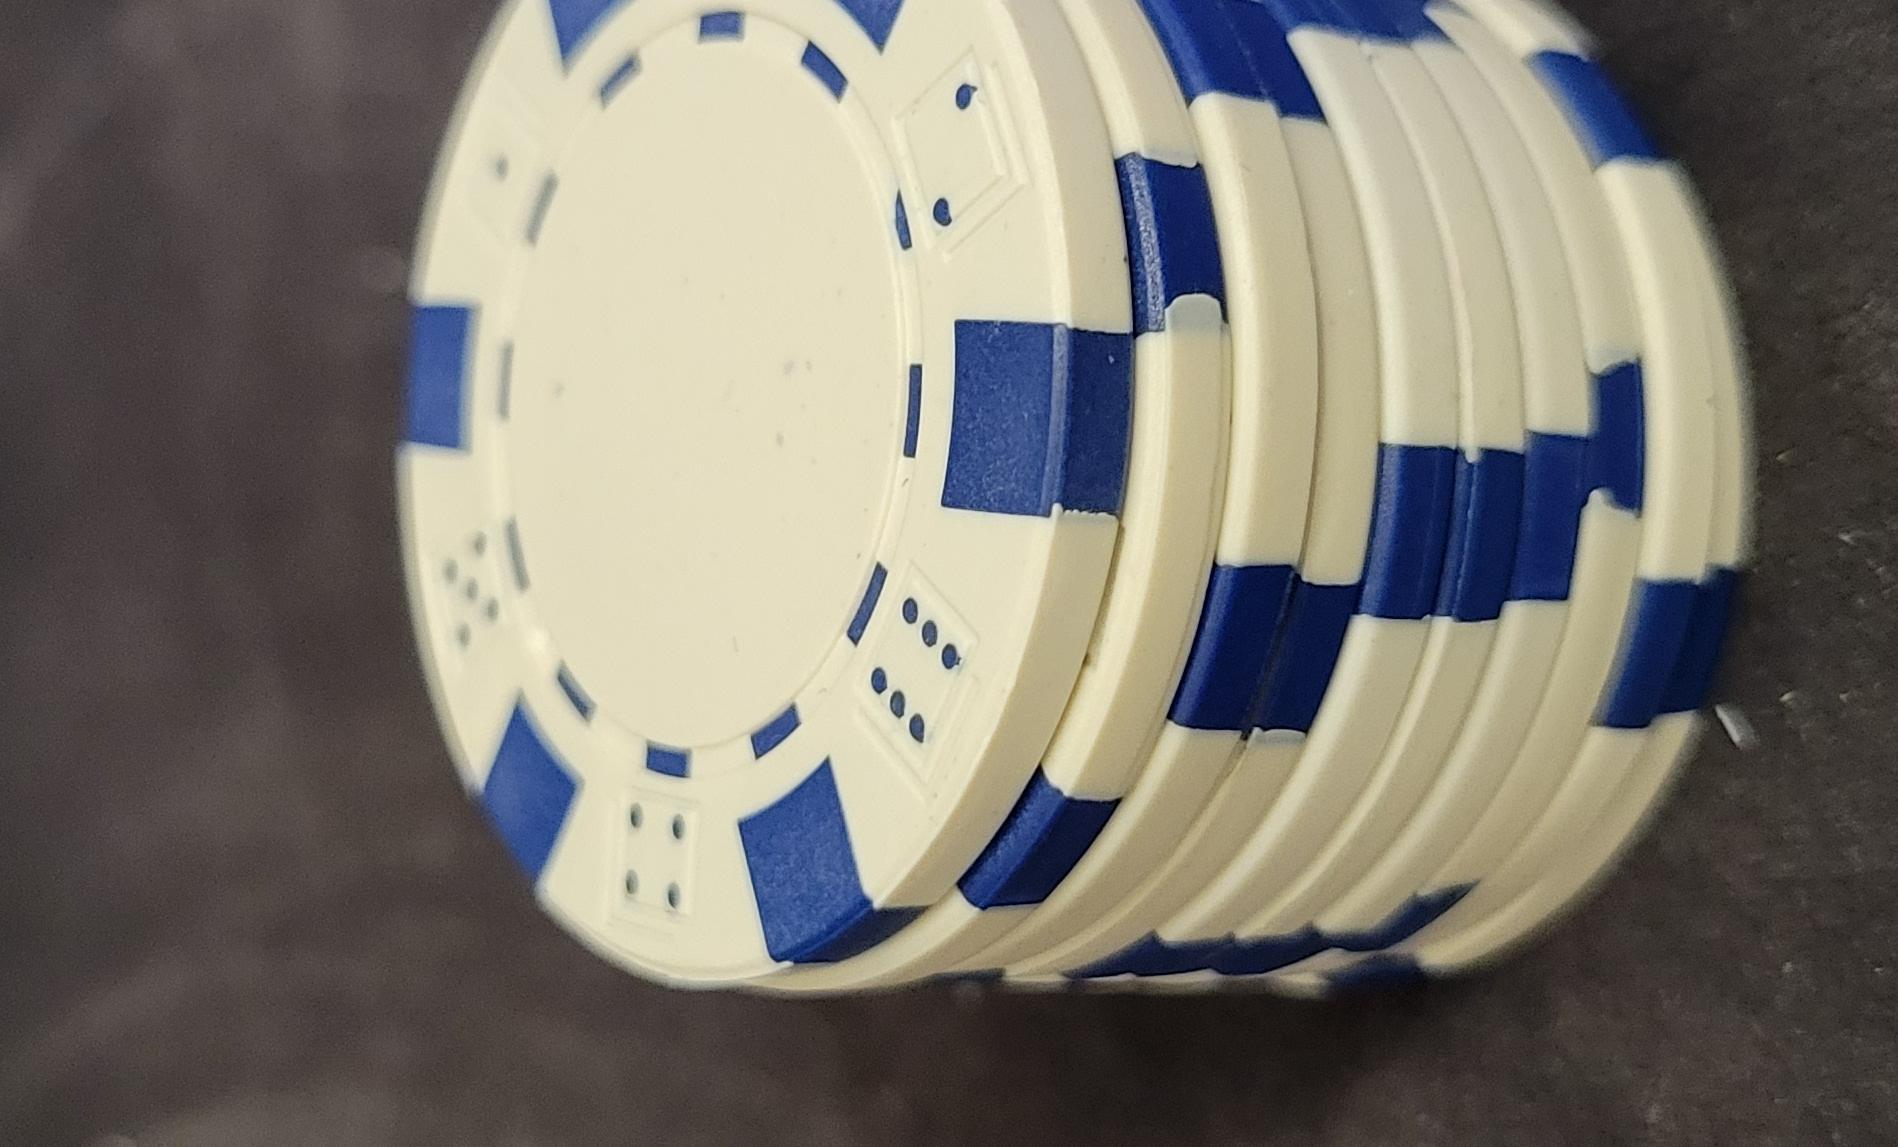Chip: (1, 348, 1139, 1147)
